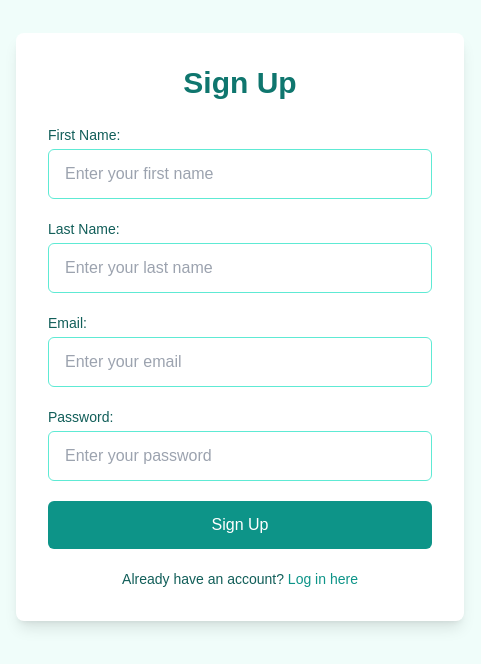
signup_page_test › Should not let users register with invalid password
The image size is (481, 664).
Type "First" into the field named "first_name" at (240, 174), box [48,149,432,199]
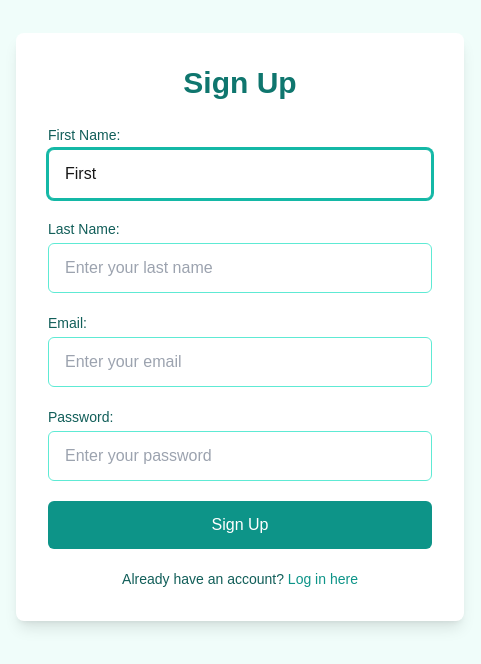
Type "Last" into the field named "last_name" at (240, 268), box [48,243,432,293]
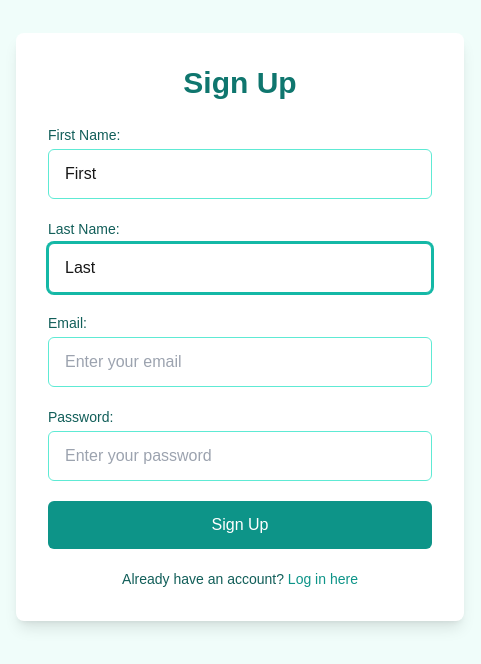
Type "validEmail@example.com" into the field labelled "Email:" at (240, 362), box [48,337,432,387]
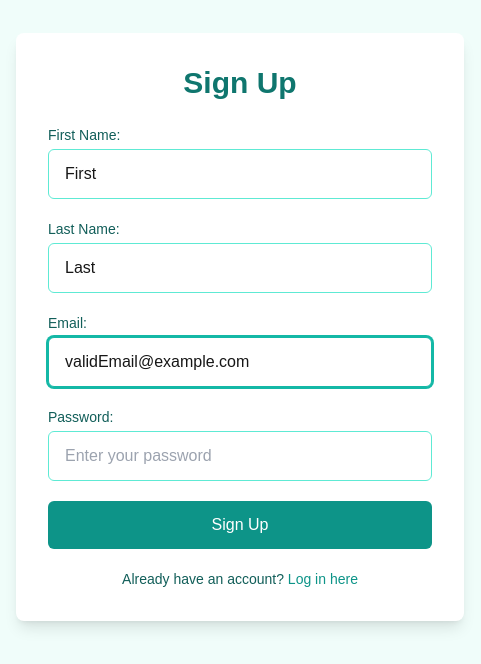
Type "invalidPassword" into the password field labelled "Password:" at (240, 456), box [48,431,432,481]
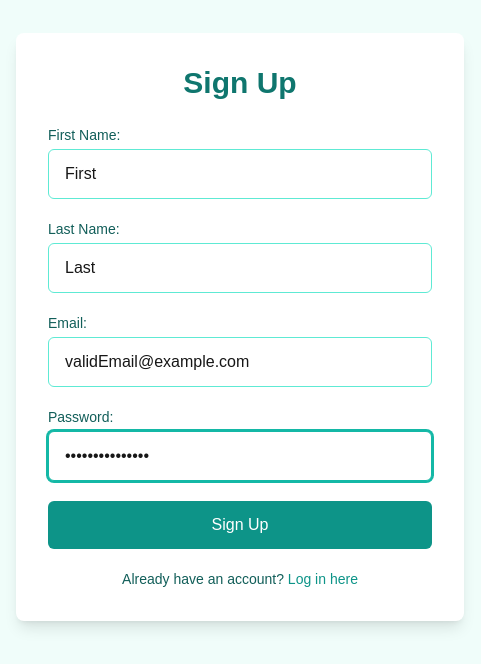
Click the submit button at (240, 525), box [48,501,432,549]
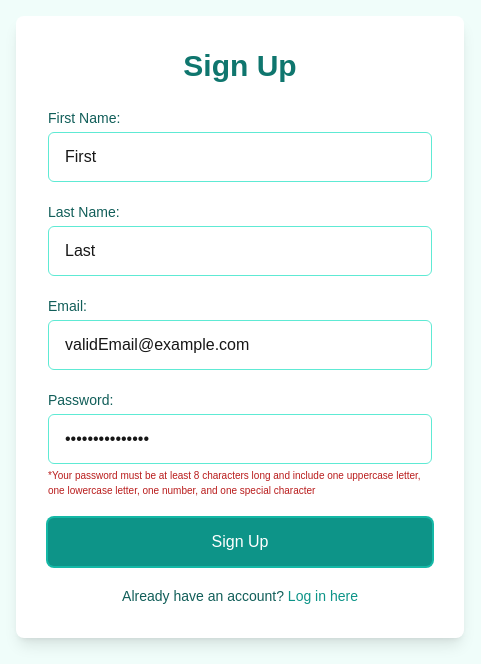
Now the text with class "error_message" is shown, box [48,468,432,498]
Now the text with class "error_message" shows "*Your password must be at least 8 characters long and include one uppercase letter, one lowercase letter, one number, and one special character", box [48,470,421,496]
